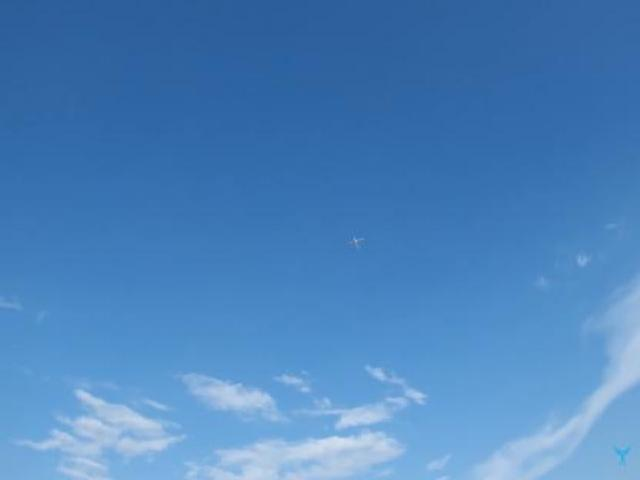uav: (343, 228, 368, 253)
